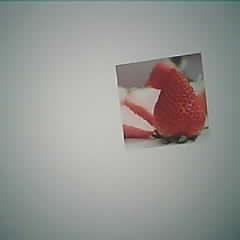straw-ripe: (154, 70, 206, 136)
